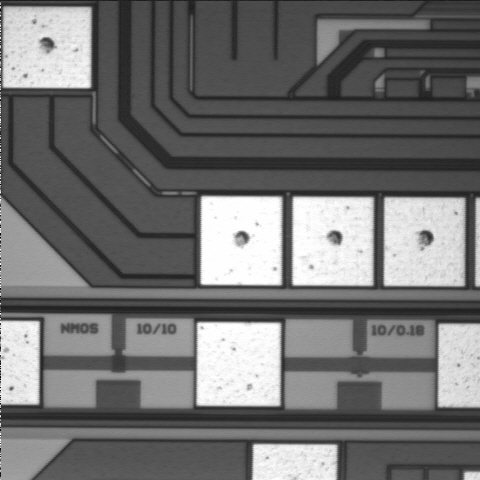pad: (201, 196, 282, 285), (292, 197, 373, 286), (3, 7, 91, 88), (384, 198, 465, 286), (197, 322, 281, 406)
